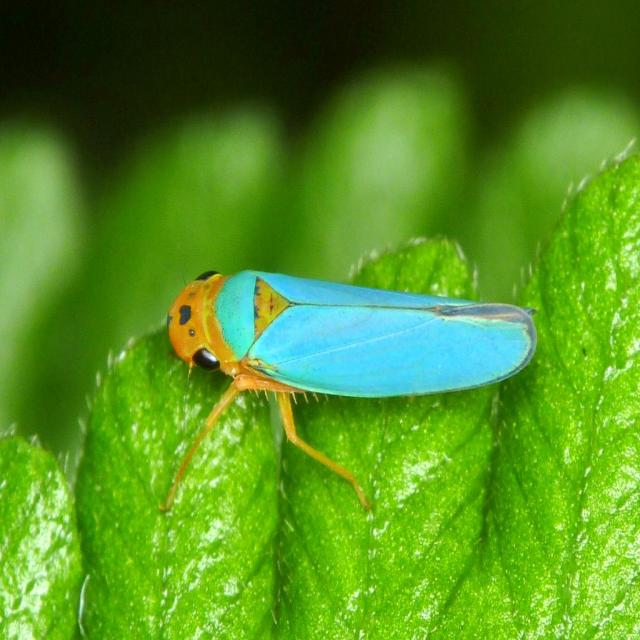Yechan: (121, 238, 548, 473)
